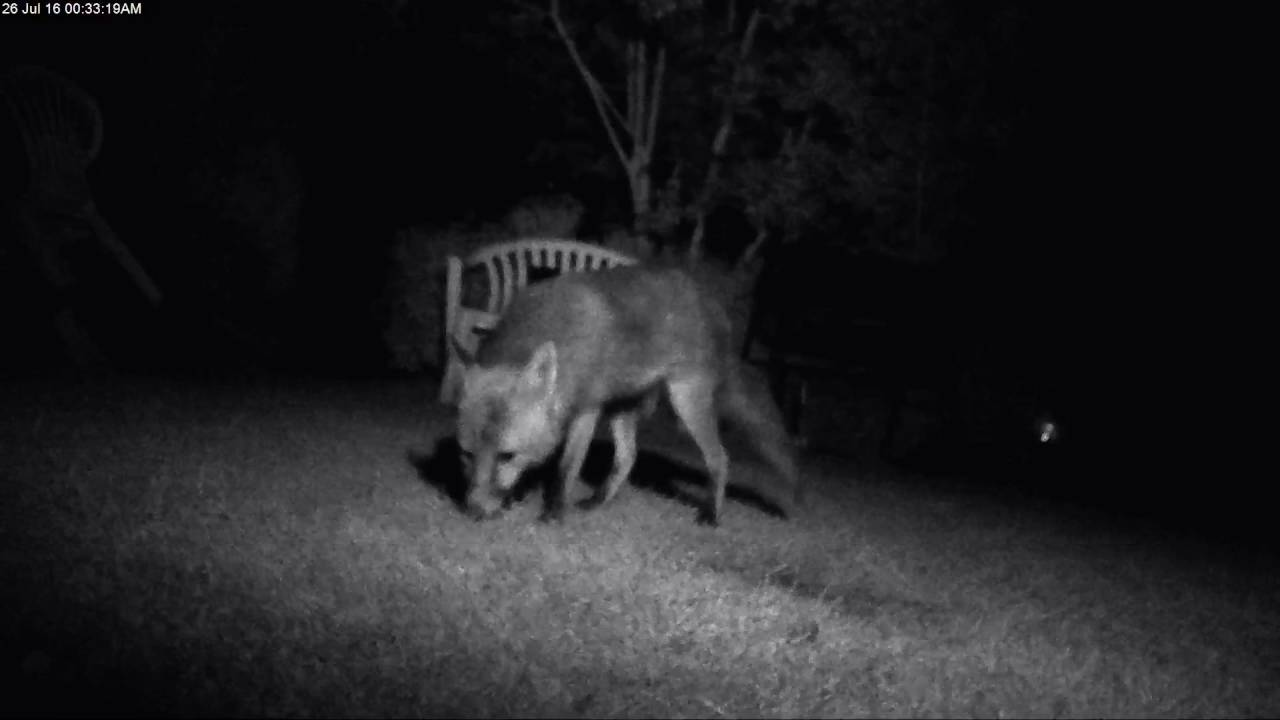fox: (432, 229, 874, 555)
